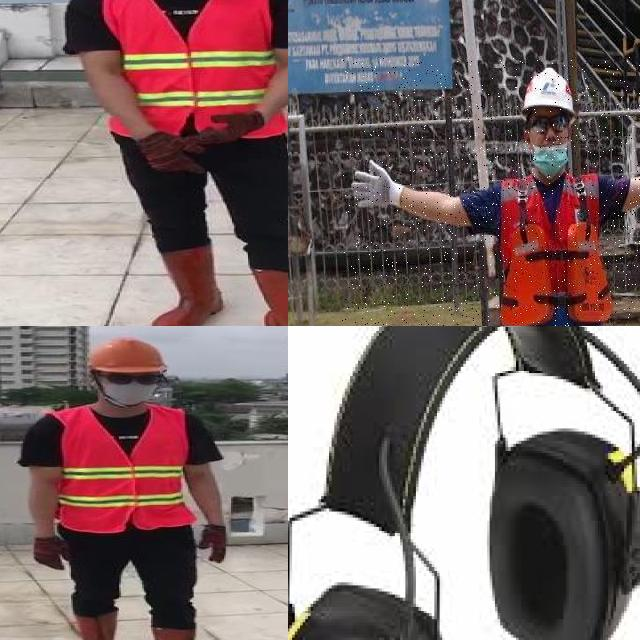Ear-protection: (484, 423, 640, 640)
boots: (148, 245, 224, 326), (251, 269, 288, 326), (73, 611, 121, 640)
face_mask: (96, 370, 165, 408)
glasses: (100, 370, 166, 386)
hand_glove: (131, 130, 205, 175), (189, 112, 266, 145), (32, 537, 67, 572), (199, 524, 229, 563)
head_helmet: (89, 336, 169, 376), (520, 66, 579, 117)
person: (342, 57, 640, 326), (59, 0, 288, 326), (19, 338, 248, 640)
vest: (89, 0, 288, 140), (498, 171, 613, 326), (50, 406, 192, 531)
